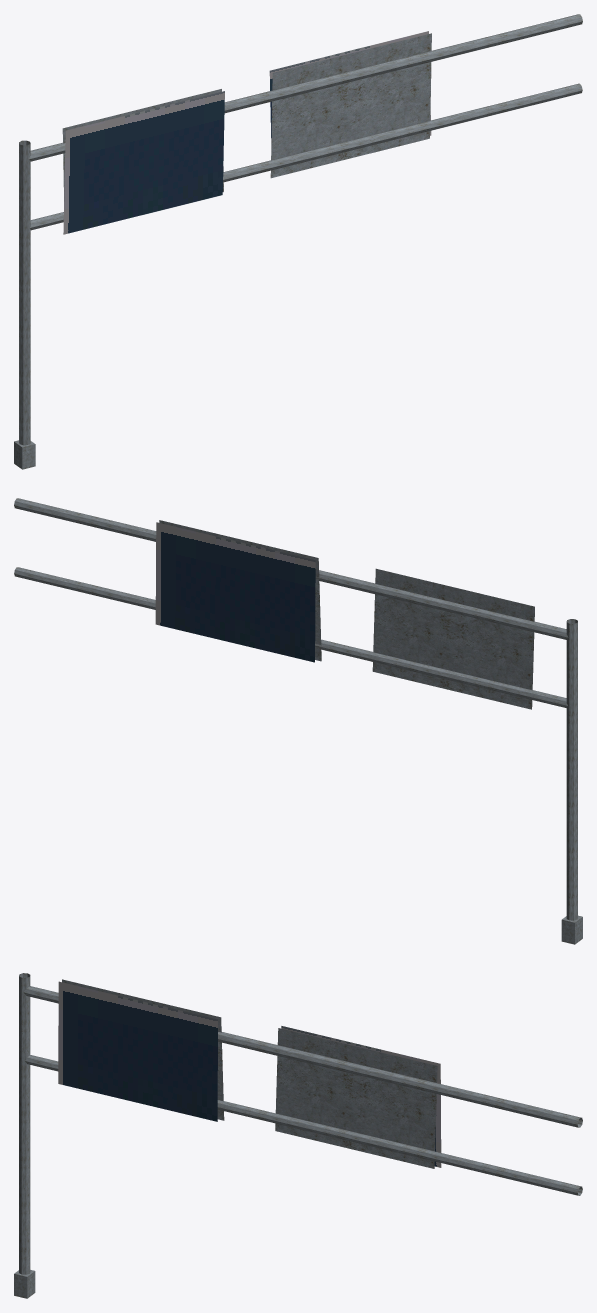
Rendered from gen_roadsign1.obj.
3 views of the same model, one above another, from view 1: azimuth 30°, elevation 25°; view 2: azimuth 150°, elevation 25°; view 3: azimuth 330°, elevation 25° (orthographic).
Visible parts, largest first — view 1: gen_roadsign1; view 2: gen_roadsign1; view 3: gen_roadsign1.
Part boxes in pixels (x1,y1,x2,y2): gen_roadsign1: (14, 14, 582, 469); gen_roadsign1: (14, 498, 582, 944); gen_roadsign1: (14, 973, 582, 1298).
Size of the model in its own units: 15.21 by 8.42 by 0.5714.
